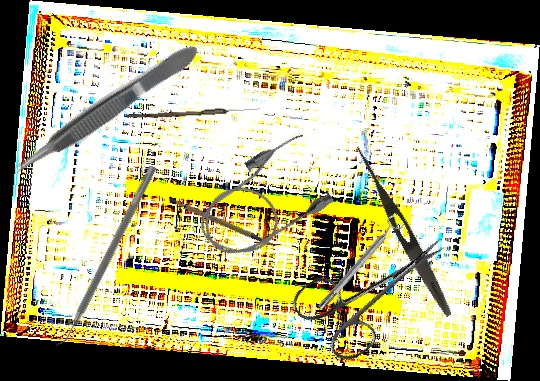Cannula: (182, 127, 344, 273)
Dressing Forceps: (349, 143, 457, 320)
Fixation Ring: (312, 213, 406, 314)
Iris Scissors: (287, 205, 468, 371)
Scalpel Handle: (168, 184, 275, 263)
Spatula Surgical: (51, 160, 158, 352)
Surgical Spoon: (126, 105, 261, 121)
Tissue Forceps: (5, 39, 206, 183)
